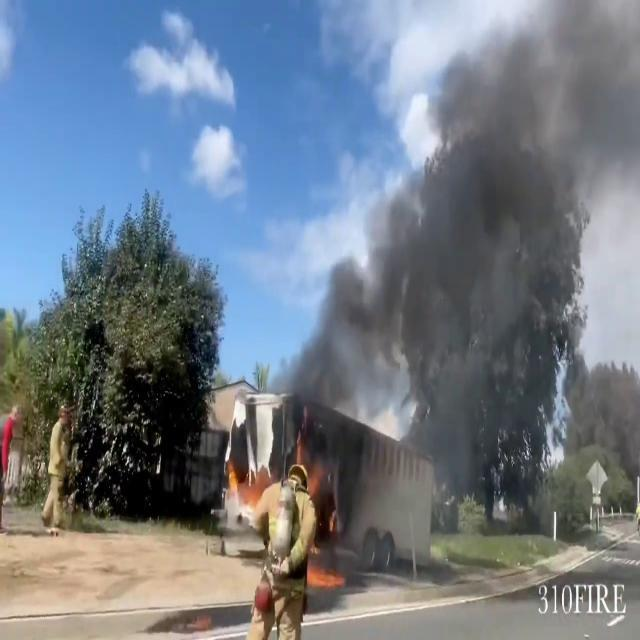Smoke: (293, 1, 640, 498)
